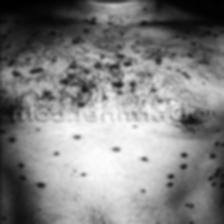Non-Cancerous Skin Condition: (0, 25, 224, 101), (0, 121, 147, 191), (165, 134, 224, 224)
